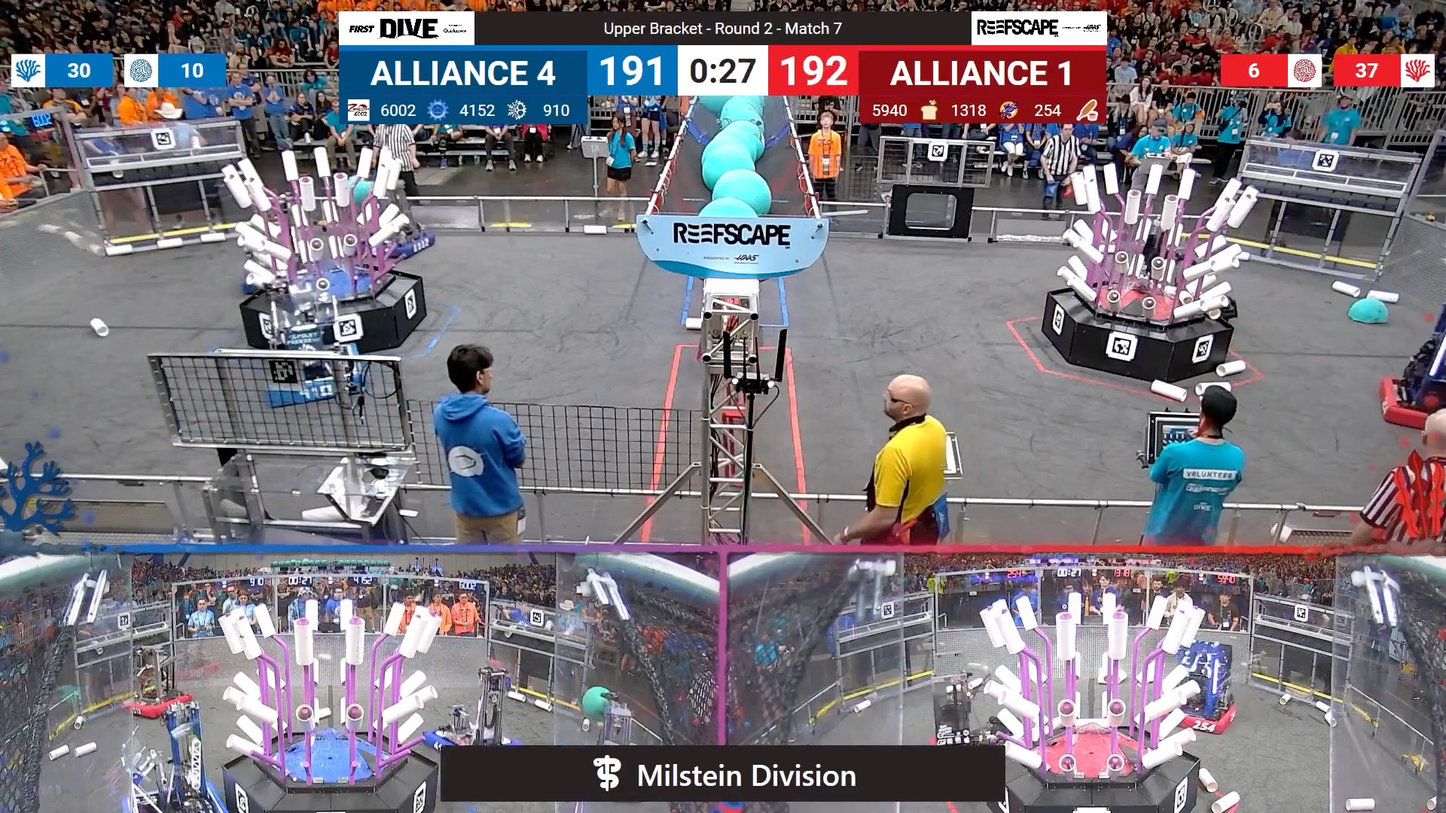bumpers: (259, 350, 370, 415), (1377, 371, 1446, 434), (357, 228, 444, 263), (1164, 699, 1241, 738), (420, 724, 526, 750), (124, 691, 200, 721)
